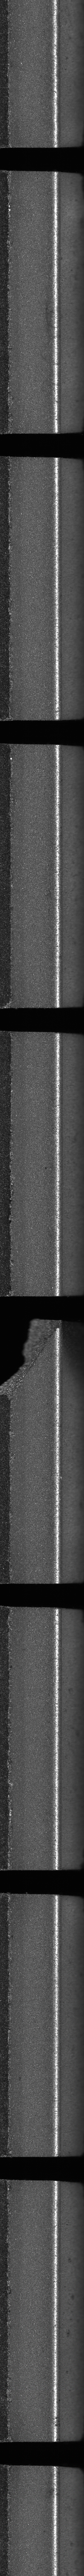Chip: (0, 1316, 64, 1408)
